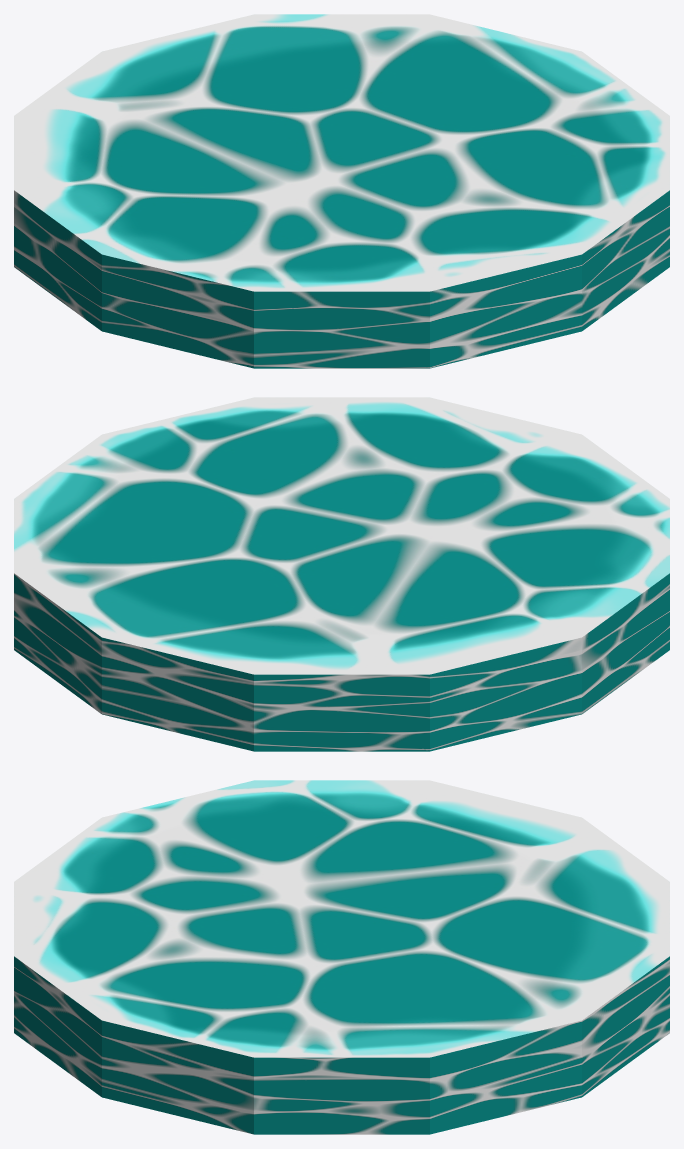
The model's file is bucket_water.glb.
3 views of the same model, one above another, from view 1: azimuth 30°, elevation 25°; view 2: azimuth 150°, elevation 25°; view 3: azimuth 270°, elevation 25° (orthographic).
Visible parts, largest first — view 1: BucketWater; view 2: BucketWater; view 3: BucketWater.
Boxes of the visible parts, x1,y1,x2,y2 form: BucketWater: [14, 14, 669, 368]; BucketWater: [14, 397, 669, 751]; BucketWater: [14, 780, 669, 1134].
Bounding box in the file's own units: 0.3864 × 0.05 × 0.3864.
1 material, 1 textured.
